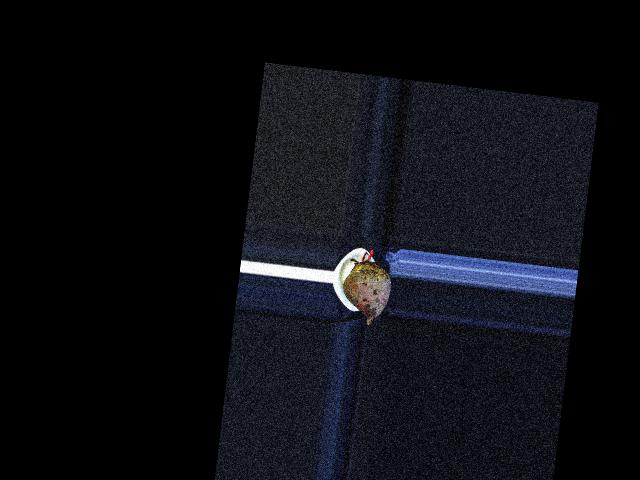beet: (339, 246, 394, 326)
